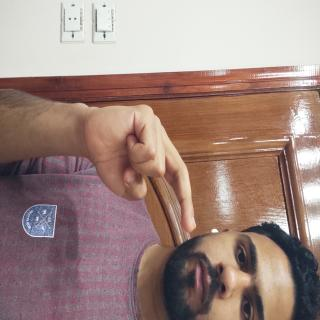ZAY: (72, 154, 178, 318)
